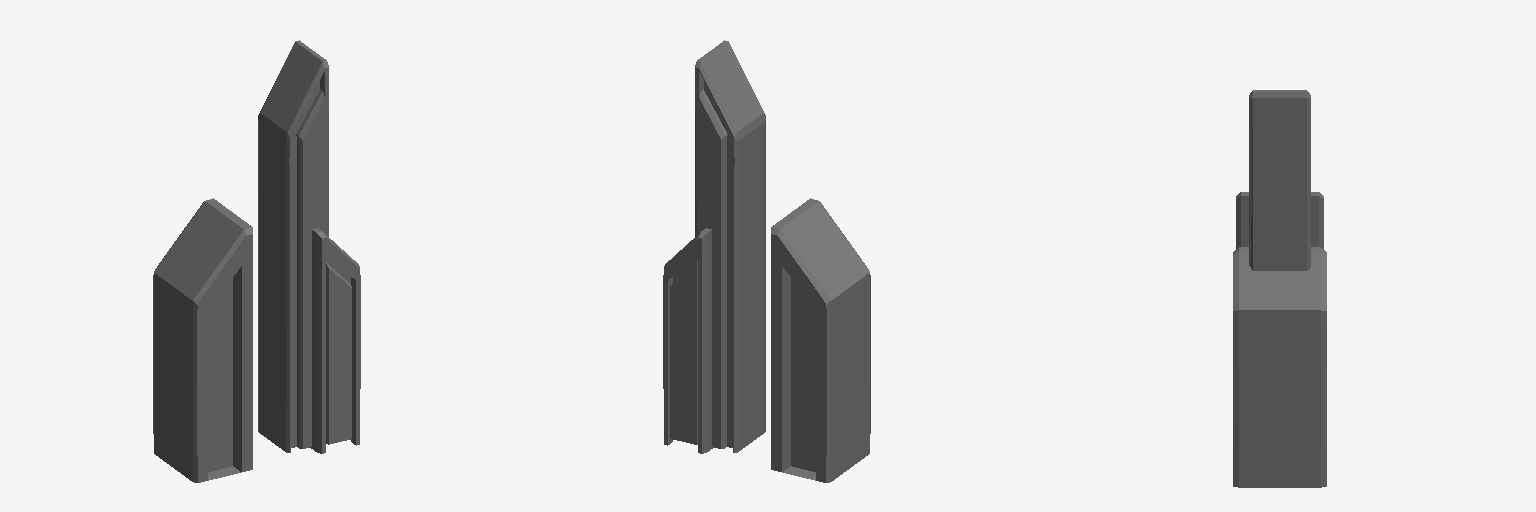
File: cannon.obj
3 views of the same model, side by side, from view 1: azimuth 30°, elevation 25°; view 2: azimuth 150°, elevation 25°; view 3: azimuth 270°, elevation 25° (orthographic).
Visible parts, largest first — view 1: Box006; view 2: Box006; view 3: Box006.
Part boxes in pixels (x1,y1,x2,y2): Box006: (153,40,360,482); Box006: (663,40,870,482); Box006: (1233,90,1326,487).
Size of the model in its own units: 26.62 by 58.86 by 13.12.